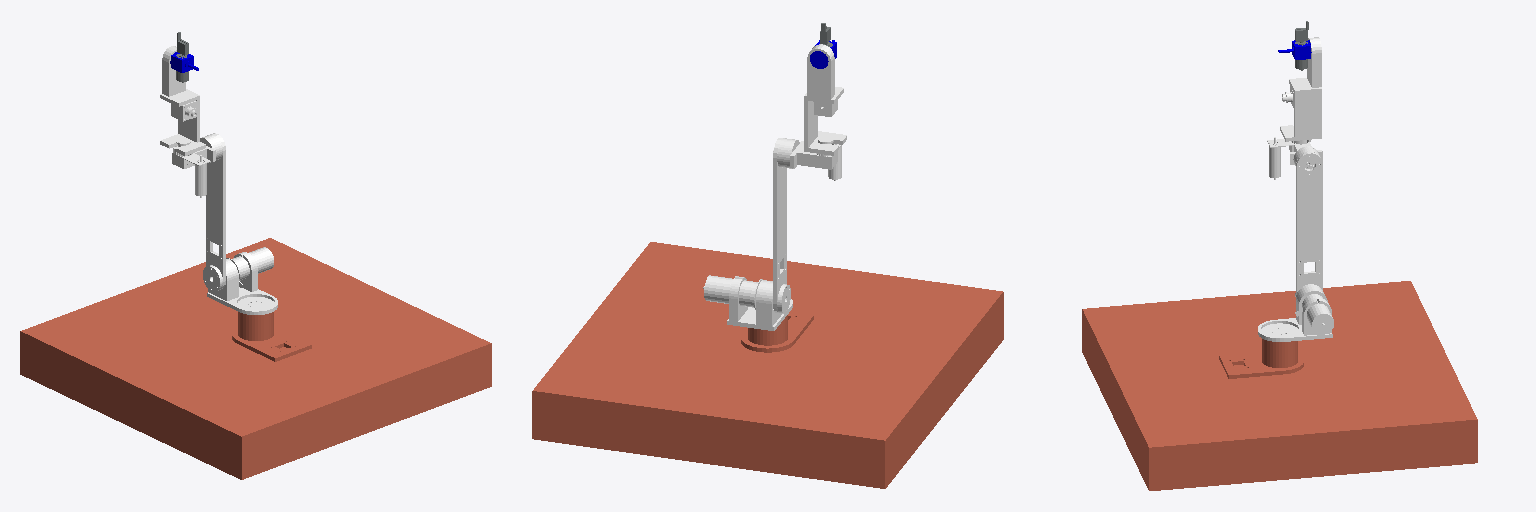
URDF robot description (mat150621):
<?xml version="1.0" encoding="utf-8"?>
<!-- This URDF was automatically created by SolidWorks to URDF Exporter! Originally created by [author] ([email redacted]) 
     Commit Version: 1.5.1-0-g916b5db  Build Version: 1.5.7152.31018
     For more information, please see http://wiki.ros.org/sw_urdf_exporter -->
<robot
  name="mat150621">

<link name="world"/>

  <joint
    name="dummy"
    type="fixed">
    <parent
      link="world" />
    <child
      link="base_link" />
  </joint>

  <link
    name="base_link">
    <inertial>
      <origin
        xyz="-0.041968 -0.042973 0.059275"
        rpy="0 0 0" />
      <mass
        value="658.29" />
      <inertia
        ixx="38.105"
        ixy="0.0004935"
        ixz="-4.8562E-06"
        iyy="38.103"
        iyz="2.3872E-05"
        izz="74.68" />
    </inertial>
    <visual>
      <origin
        xyz="0 0 0"
        rpy="0 0 0" />
      <geometry>
        <mesh
          filename="package://mat150621/meshes/base_link.STL" />
      </geometry>
      <material
        name="">
        <color
          rgba="0.83922 0.46667 0.36863 1" />
      </material>
    </visual>
    <collision>
      <origin
        xyz="0 0 0"
        rpy="0 0 0" />
      <geometry>
        <mesh
          filename="package://mat150621/meshes/base_link.STL" />
      </geometry>
    </collision>
  </link>
  <link
    name="link_1">
    <inertial>
      <origin
        xyz="-0.033996 0.093779 0.0012329"
        rpy="0 0 0" />
      <mass
        value="0.66771" />
      <inertia
        ixx="0.00059176"
        ixy="4.1059E-06"
        ixz="1.5829E-07"
        iyy="0.00079133"
        iyz="-2.7619E-09"
        izz="0.00082307" />
    </inertial>
    <visual>
      <origin
        xyz="0 0 0"
        rpy="0 0 0" />
      <geometry>
        <mesh
          filename="package://mat150621/meshes/link_1.STL" />
      </geometry>
      <material
        name="">
        <color
          rgba="1 1 1 0.32" />
      </material>
    </visual>
    <collision>
      <origin
        xyz="0 0 0"
        rpy="0 0 0" />
      <geometry>
        <mesh
          filename="package://mat150621/meshes/link_1.STL" />
      </geometry>
    </collision>
  </link>
  <joint
    name="joint_1"
    type="continuous">
    <origin
      xyz="-0.041992 -0.042857 0.078"
      rpy="1.5708 0 -1.3701" />
    <parent
      link="base_link" />
    <child
      link="link_1" />
    <axis
      xyz="0 1 0" />
    <limit
      lower="0"
      upper="0"
      effort="10000"
      velocity="0.01" />
  </joint>
  <link
    name="link_2">
    <inertial>
      <origin
        xyz="-0.090237 -0.041077 0.0071264"
        rpy="0 0 0" />
      <mass
        value="0.71052" />
      <inertia
        ixx="0.0014201"
        ixy="-0.0013787"
        ixz="-6.3697E-18"
        iyy="0.0030114"
        iyz="-3.9031E-18"
        izz="0.0035692" />
    </inertial>
    <visual>
      <origin
        xyz="0 0 0"
        rpy="0 0 0" />
      <geometry>
        <mesh
          filename="package://mat150621/meshes/link_2.STL" />
      </geometry>
      <material
        name="">
        <color
          rgba="1 1 1 0.32" />
      </material>
    </visual>
    <collision>
      <origin
        xyz="0 0 0"
        rpy="0 0 0" />
      <geometry>
        <mesh
          filename="package://mat150621/meshes/link_2.STL" />
      </geometry>
    </collision>
  </link>
  <joint
    name="joint_2"
    type="continuous">
    <origin
      xyz="-0.094526 0.1845 0"
      rpy="0 0 -2.0944" />
    <parent
      link="link_1" />
    <child
      link="link_2" />
    <axis
      xyz="0 0 1" />
    <limit
      lower="0"
      upper="0"
      effort="10000"
      velocity="0.01" />
  </joint>
  <link
    name="link_3">
    <inertial>
      <origin
        xyz="0.023622 -0.0034545 -0.077955"
        rpy="0 0 0" />
      <mass
        value="0.20995" />
      <inertia
        ixx="0.0001298"
        ixy="-7.756E-06"
        ixz="6.8402E-08"
        iyy="0.00011907"
        iyz="3.0211E-07"
        izz="9.4044E-05" />
    </inertial>
    <visual>
      <origin
        xyz="0 0 0"
        rpy="0 0 0" />
      <geometry>
        <mesh
          filename="package://mat150621/meshes/link_3.STL" />
      </geometry>
      <material
        name="">
        <color
          rgba="1 1 1 0.32" />
      </material>
    </visual>
    <collision>
      <origin
        xyz="0 0 0"
        rpy="0 0 0" />
      <geometry>
        <mesh
          filename="package://mat150621/meshes/link_3.STL" />
      </geometry>
    </collision>
  </link>
  <joint
    name="joint_3"
    type="continuous">
    <origin
      xyz="-0.31697 -0.172 0.05541"
      rpy="3.1416 0 1.5595" />
    <parent
      link="link_2" />
    <child
      link="link_3" />
    <axis
      xyz="0 0 1" />
    <limit
      lower="0"
      upper="0"
      effort="10000"
      velocity="0.01" />
  </joint>
  <link
    name="link_4">
    <inertial>
      <origin
        xyz="0.012568 -0.0056712 0.12711"
        rpy="0 0 0" />
      <mass
        value="0.46439" />
      <inertia
        ixx="0.0017693"
        ixy="-1.7931E-05"
        ixz="-0.00025886"
        iyy="0.0018075"
        iyz="-0.00012453"
        izz="0.00034226" />
    </inertial>
    <visual>
      <origin
        xyz="0 0 0"
        rpy="0 0 0" />
      <geometry>
        <mesh
          filename="package://mat150621/meshes/link_4.STL" />
      </geometry>
      <material
        name="">
        <color
          rgba="1 1 1 0.32" />
      </material>
    </visual>
    <collision>
      <origin
        xyz="0 0 0"
        rpy="0 0 0" />
      <geometry>
        <mesh
          filename="package://mat150621/meshes/link_4.STL" />
      </geometry>
    </collision>
  </link>
  <joint
    name="joint_4"
    type="continuous">
    <origin
      xyz="0 0 -0.10734"
      rpy="-1.5708 0 2.6067" />
    <parent
      link="link_3" />
    <child
      link="link_4" />
    <axis
      xyz="0 0 1" />
    <limit
      lower="0"
      upper="0"
      effort="10000"
      velocity="0.01" />
  </joint>
  <link
    name="link_5">
    <inertial>
      <origin
        xyz="-0.0183367864154505 -8.13238365537927E-15 -0.000490864933980428"
        rpy="0 0 0" />
      <mass
        value="0.0755005716858459" />
      <inertia
        ixx="1.97589257555594E-05"
        ixy="5.25160427297666E-20"
        ixz="6.05450831115173E-07"
        iyy="4.31691452452356E-05"
        iyz="1.00585162486448E-21"
        izz="4.5866156286482E-05" />
    </inertial>
    <visual>
      <origin
        xyz="0 0 0"
        rpy="0 0 0" />
      <geometry>
        <mesh
          filename="package://mat150621/meshes/link_5.STL" />
      </geometry>
      <material
        name="">
        <color
          rgba="0 0 1 0.32" />
      </material>
    </visual>
    <collision>
      <origin
        xyz="0 0 0"
        rpy="0 0 0" />
      <geometry>
        <mesh
          filename="package://mat150621/meshes/link_5.STL" />
      </geometry>
    </collision>
  </link>
  <joint
    name="joint_5"
    type="continuous">
    <origin
      xyz="0 0.00018906 0.2605"
      rpy="3.1416 0 -3.1416" />
    <parent
      link="link_4" />
    <child
      link="link_5" />
    <axis
      xyz="1 0 0" />
    <limit
      lower="0"
      upper="0"
      effort="10000"
      velocity="0.01" />
  </joint>
  <link
    name="link_6">
    <inertial>
      <origin
        xyz="4.8572E-17 -2.7756E-17 -0.058506"
        rpy="0 0 0" />
      <mass
        value="0.51132" />
      <inertia
        ixx="0.00018374"
        ixy="3.3881E-21"
        ixz="1.2594E-19"
        iyy="0.00018956"
        iyz="-2.0157E-20"
        izz="6.1205E-05" />
    </inertial>
    <visual>
      <origin
        xyz="0 0 0"
        rpy="0 0 0" />
      <geometry>
        <mesh
          filename="package://mat150621/meshes/link_6.STL" />
      </geometry>
      <material
        name="">
        <color
          rgba="0.52941 0.54902 0.54902 1" />
      </material>
    </visual>
    <collision>
      <origin
        xyz="0 0 0"
        rpy="0 0 0" />
      <geometry>
        <mesh
          filename="package://mat150621/meshes/link_6.STL" />
      </geometry>
    </collision>
  </link>
  <joint
    name="joint_6"
    type="fixed">
    <origin
      xyz="-0.002 0 -0.0555"
      rpy="3.1416 0 3.1416" />
    <parent
      link="link_5" />
    <child
      link="link_6" />
    <axis
      xyz="0 0 0" />
  </joint>
  <link
    name="gripper_1">
    <inertial>
      <origin
        xyz="-0.00445345514667091 -1.93456362040934E-14 0.0101363636363627"
        rpy="0 0 0" />
      <mass
        value="0.0078936" />
      <inertia
        ixx="3.37333218181819E-07"
        ixy="1.1090175908621E-19"
        ixz="3.10300116957153E-21"
        iyy="2.88583218181819E-07"
        iyz="2.34395263746486E-21"
        izz="8.13123999999998E-08" />
    </inertial>
    <visual>
      <origin
        xyz="0 0 0"
        rpy="0 0 0" />
      <geometry>
        <mesh
          filename="package://mat150621/meshes/gripper_1.STL" />
      </geometry>
      <material
        name="">
        <color
          rgba="0.529411764705882 0.549019607843137 0.549019607843137 1" />
      </material>
    </visual>
    <collision>
      <origin
        xyz="0 0 0"
        rpy="0 0 0" />
      <geometry>
        <mesh
          filename="package://mat150621/meshes/gripper_1.STL" />
      </geometry>
    </collision>
  </link>
  <joint
    name="grip_1"
    type="prismatic">
    <origin
      xyz="0.0095465 0 0.02"
      rpy="3.1416 0 -3.1416" />
    <parent
      link="link_6" />
    <child
      link="gripper_1" />
    <axis
      xyz="1 0 0" />
    <limit
      lower="0"
      upper="0"
      effort="1000000"
      velocity="0.01" />
  </joint>
  <link
    name="gripper_2">
    <inertial>
      <origin
        xyz="0.0044535 5.4956E-15 0.010136"
        rpy="0 0 0" />
      <mass
        value="0.0078936" />
      <inertia
        ixx="3.3733E-07"
        ixy="1.2035E-19"
        ixz="-9.0704E-20"
        iyy="2.8858E-07"
        iyz="-7.3587E-20"
        izz="8.1312E-08" />
    </inertial>
    <visual>
      <origin
        xyz="0 0 0"
        rpy="0 0 0" />
      <geometry>
        <mesh
          filename="package://mat150621/meshes/gripper_2.STL" />
      </geometry>
      <material
        name="">
        <color
          rgba="0.52941 0.54902 0.54902 1" />
      </material>
    </visual>
    <collision>
      <origin
        xyz="0 0 0"
        rpy="0 0 0" />
      <geometry>
        <mesh
          filename="package://mat150621/meshes/gripper_2.STL" />
      </geometry>
    </collision>
  </link>
  <joint
    name="grip_2"
    type="prismatic">
    <origin
      xyz="-0.0095465 0 0.02"
      rpy="-3.1416 0 -3.1416" />
    <parent
      link="link_6" />
    <child
      link="gripper_2" />
    <axis
      xyz="1 0 0" />
    <limit
      lower="0"
      upper="0"
      effort="10000"
      velocity="0.01" />
  </joint>

  <transmission name="tran1">
    <type>transmission_interface/SimpleTransmission</type>
    <joint name="joint_1">
      <hardwareInterface>hardware_interface/EffortJointInterface</hardwareInterface>
    </joint>
    <actuator name="motor1">
      <hardwareInterface>hardware_interface/EffortJointInterface</hardwareInterface>
      <mechanicalReduction>1</mechanicalReduction>
    </actuator>
  </transmission>

  <transmission name="tran2">
    <type>transmission_interface/SimpleTransmission</type>
    <joint name="joint_2">
      <hardwareInterface>hardware_interface/EffortJointInterface</hardwareInterface>
    </joint>
    <actuator name="motor2">
      <hardwareInterface>hardware_interface/EffortJointInterface</hardwareInterface>
      <mechanicalReduction>1</mechanicalReduction>
    </actuator>
  </transmission>

  <transmission name="tran3">
    <type>transmission_interface/SimpleTransmission</type>
    <joint name="joint_3">
      <hardwareInterface>hardware_interface/EffortJointInterface</hardwareInterface>
    </joint>
    <actuator name="motor3">
      <hardwareInterface>hardware_interface/EffortJointInterface</hardwareInterface>
      <mechanicalReduction>1</mechanicalReduction>
    </actuator>
  </transmission>

  <transmission name="tran4">
    <type>transmission_interface/SimpleTransmission</type>
    <joint name="joint_4">
      <hardwareInterface>hardware_interface/EffortJointInterface</hardwareInterface>
    </joint>
    <actuator name="motor4">
      <hardwareInterface>hardware_interface/EffortJointInterface</hardwareInterface>
      <mechanicalReduction>1</mechanicalReduction>
    </actuator>
  </transmission>

<transmission name="tran5">
    <type>transmission_interface/SimpleTransmission</type>
    <joint name="joint_5">
      <hardwareInterface>hardware_interface/EffortJointInterface</hardwareInterface>
    </joint>
    <actuator name="motor5">
      <hardwareInterface>hardware_interface/EffortJointInterface</hardwareInterface>
      <mechanicalReduction>1</mechanicalReduction>
    </actuator>
  </transmission>

 <transmission name="tran6">
    <type>transmission_interface/SimpleTransmission</type>
    <joint name="grip_1">
      <hardwareInterface>hardware_interface/EffortJointInterface</hardwareInterface>
    </joint>
    <actuator name="motor6">
      <hardwareInterface>hardware_interface/EffortJointInterface</hardwareInterface>
      <mechanicalReduction>1</mechanicalReduction>
    </actuator>
  </transmission>

 <transmission name="tran7">
    <type>transmission_interface/SimpleTransmission</type>
    <joint name="grip_2">
      <hardwareInterface>hardware_interface/EffortJointInterface</hardwareInterface>
    </joint>
    <actuator name="motor7">
      <hardwareInterface>hardware_interface/EffortJointInterface</hardwareInterface>
      <mechanicalReduction>1</mechanicalReduction>
    </actuator>
  </transmission>

<gazebo reference="base_link">
    <material>Gazebo/Yellow</material>
    <turnGravityOff>true</turnGravityOff>
  </gazebo>
  <gazebo reference="link_1">
    <material>Gazebo/Orange</material>
    <turnGravityOff>true</turnGravityOff>
  </gazebo>
  <gazebo reference="link_2">
    <material>Gazebo/Orange</material>
    <turnGravityOff>true</turnGravityOff>
  </gazebo>  
  <gazebo reference="link_3">
    <material>Gazebo/Orange</material>
    <turnGravityOff>true</turnGravityOff>
  </gazebo>
  <gazebo reference="link_4">
    <material>Gazebo/Orange</material>
    <turnGravityOff>true</turnGravityOff>
  </gazebo>
  <gazebo reference="link_5">
    <material>Gazebo/Orange</material>
    <turnGravityOff>true</turnGravityOff>
  </gazebo>
  <gazebo reference="link_6">
    <material>Gazebo/Orange</material>
    <turnGravityOff>true</turnGravityOff>
  </gazebo>
  <gazebo reference="gripper_1">
    <material>Gazebo/Orange</material>
    <turnGravityOff>true</turnGravityOff>
  </gazebo>
  <gazebo reference="gripper_2">
    <material>Gazebo/Orange</material>
    <turnGravityOff>true</turnGravityOff>
  </gazebo>

  <gazebo>
      <plugin name="gazebo_ros_control" filename="libgazebo_ros_control.so">
        <robotNamespace>/mat150621</robotNamespace>
        <robotParam>robot_description</robotParam>
        <controlPeriod>0.001</controlPeriod>
        <robotSimType>gazebo_ros_control/DefaultRobotHWSim</robotSimType>
        <legacyModeNS>true</legacyModeNS>
      </plugin>
  </gazebo>
</robot>

--- Render facts (derived) ---
3 views of the same robot in one strip: view 1: azimuth 30°, elevation 25°; view 2: azimuth 150°, elevation 25°; view 3: azimuth 270°, elevation 25° (orthographic).
Robot: mat150621 — 10 links, 9 joints (5 continuous, 2 prismatic, 2 fixed); root link world; default pose: every joint at zero.
Links seen in each view (by area): view 1: base_link, link_2, link_4, link_1, link_3; view 2: base_link, link_2, link_4, link_1, link_3; view 3: base_link, link_2, link_4, link_1, link_3.
Link boxes in pixels (box(x1,y1,x2,y2)): base_link: box(20, 238, 491, 479); link_2: box(203, 133, 273, 291); link_4: box(160, 46, 205, 156); link_1: box(207, 252, 277, 314); link_3: box(172, 137, 215, 197); base_link: box(532, 242, 1003, 488); link_2: box(703, 138, 794, 313); link_4: box(804, 44, 846, 156); link_1: box(727, 276, 792, 330); link_3: box(773, 140, 841, 180); base_link: box(1082, 281, 1477, 490); link_2: box(1294, 147, 1333, 334); link_4: box(1280, 37, 1321, 144); link_1: box(1258, 284, 1332, 341); link_3: box(1267, 137, 1322, 179).
Bounding box of the posed robot: 0.967 × 0.967 × 0.964 m (x, y, z).
Meshes: 9 distinct files referenced, 9 mesh visuals loaded (9 binary STL).
